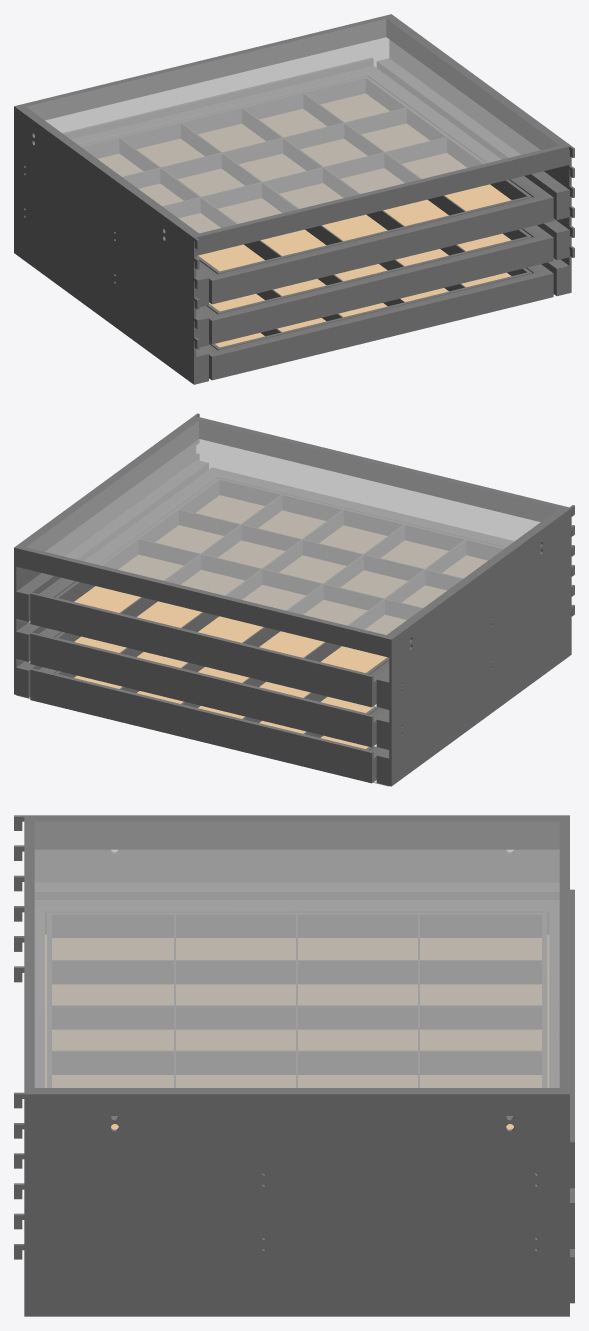
3 views of the same model, one above another, from view 1: azimuth 30°, elevation 25°; view 2: azimuth 150°, elevation 25°; view 3: azimuth 270°, elevation 25° (orthographic). The views are drawn at different scales.
Visible parts, largest first — view 1: Geom3D (×7); view 2: Geom3D (×7); view 3: Geom3D (×3).
Boxes of the visible parts, box(x1,y1,x2,y2) form: Geom3D (×7): box(14, 14, 574, 384); Geom3D (×7): box(14, 413, 574, 786); Geom3D (×3): box(14, 815, 574, 1316).
Size of the model in its own units: 0.6416 by 0.2394 by 0.545.
